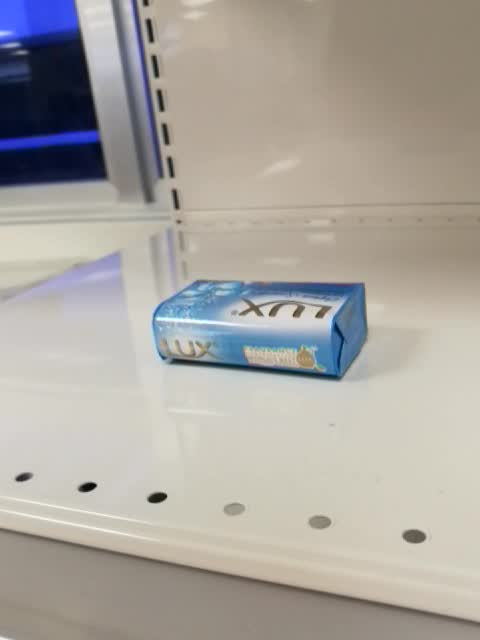soap: (149, 277, 367, 385)
